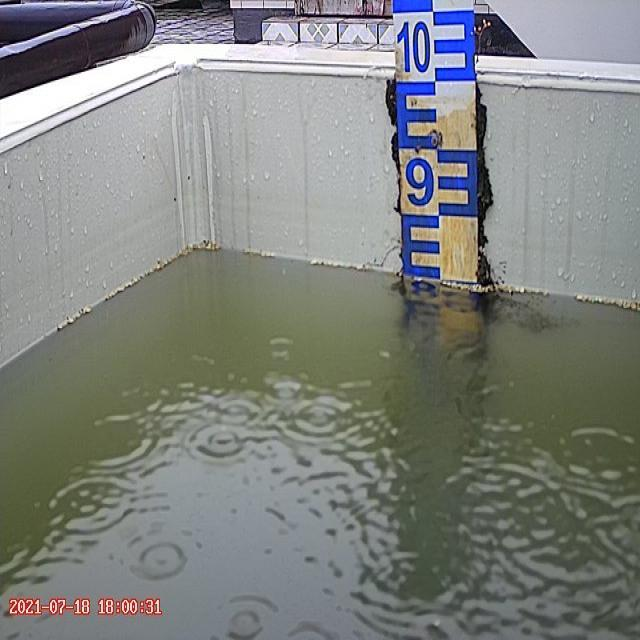ruler: (387, 0, 488, 305)
value: (396, 12, 436, 79), (400, 152, 437, 212)
